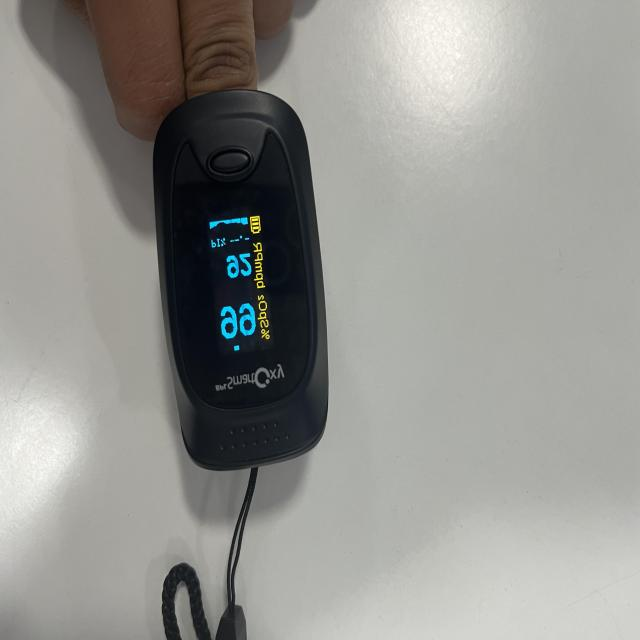spo2: (152, 90, 328, 474)
